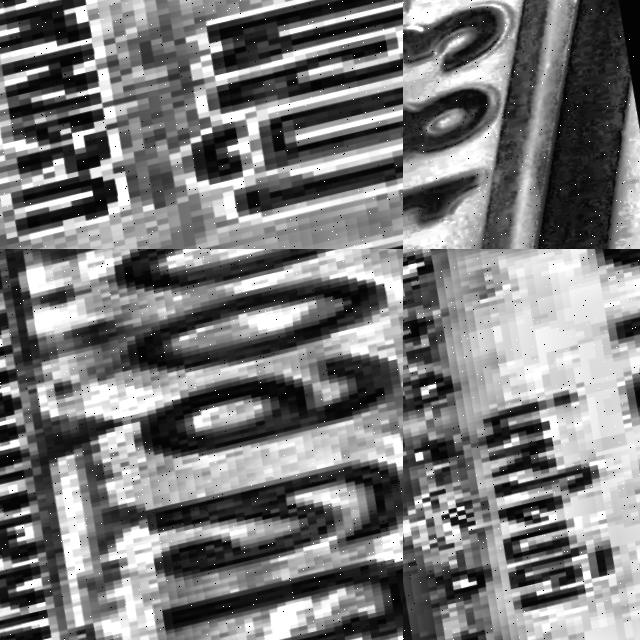license-plate: (0, 249, 403, 640), (0, 0, 403, 249), (403, 249, 640, 640), (403, 0, 640, 249)
